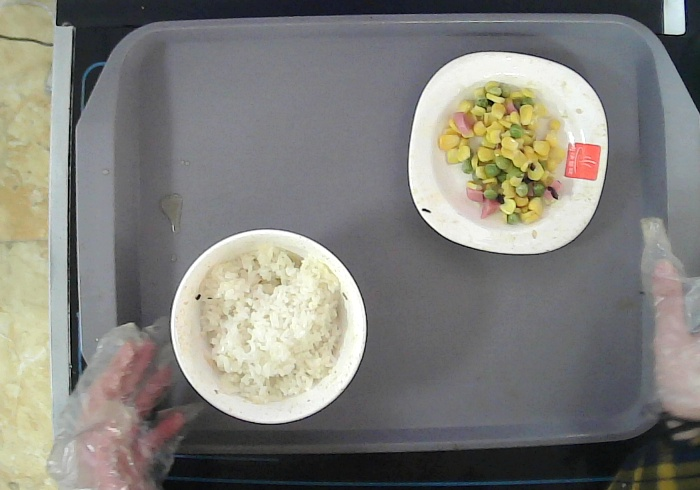SHKJ-Bai_Se_Si_Fang_Cai_Die: (407, 52, 608, 256)
SHKJ-Fan_Wan: (170, 228, 367, 423)
